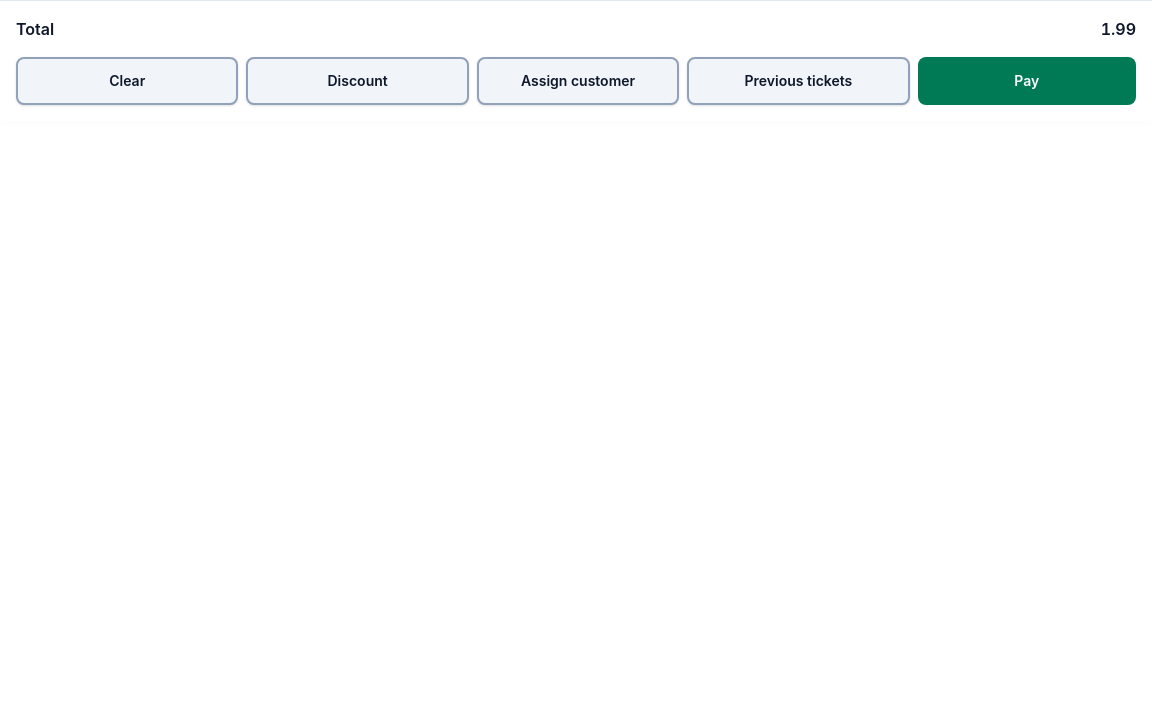
it: CheckoutFooter › opens the checkout modal from Pay
The width and height of the screenshot is (1152, 720).
Check: the dialog "take payment" is not shown
Click the button with test id "open-checkout". click: (1027, 81)
box: [918, 57, 1136, 105]
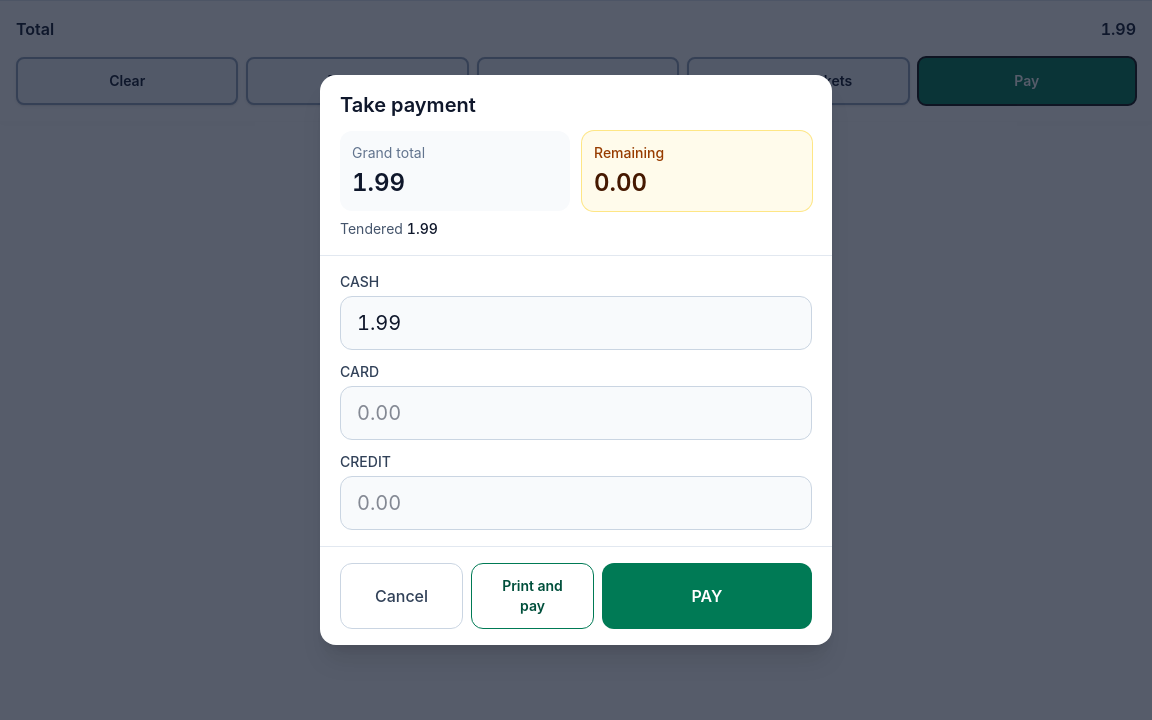
Check: the dialog "Take payment" is shown
Check: the text with test id "checkout-grand-total" reads "1.99", box [352, 168, 405, 197]
